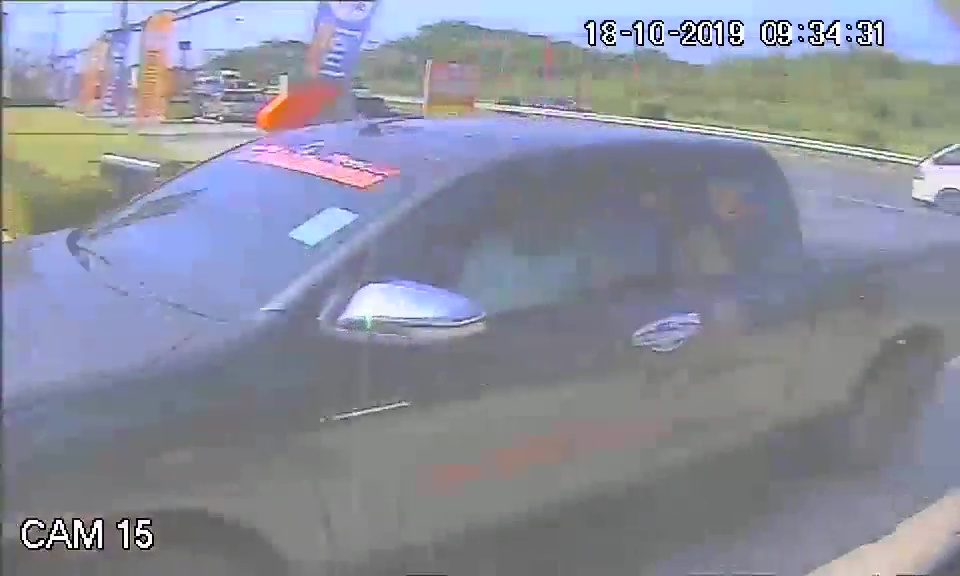pickup: (5, 120, 959, 531)
